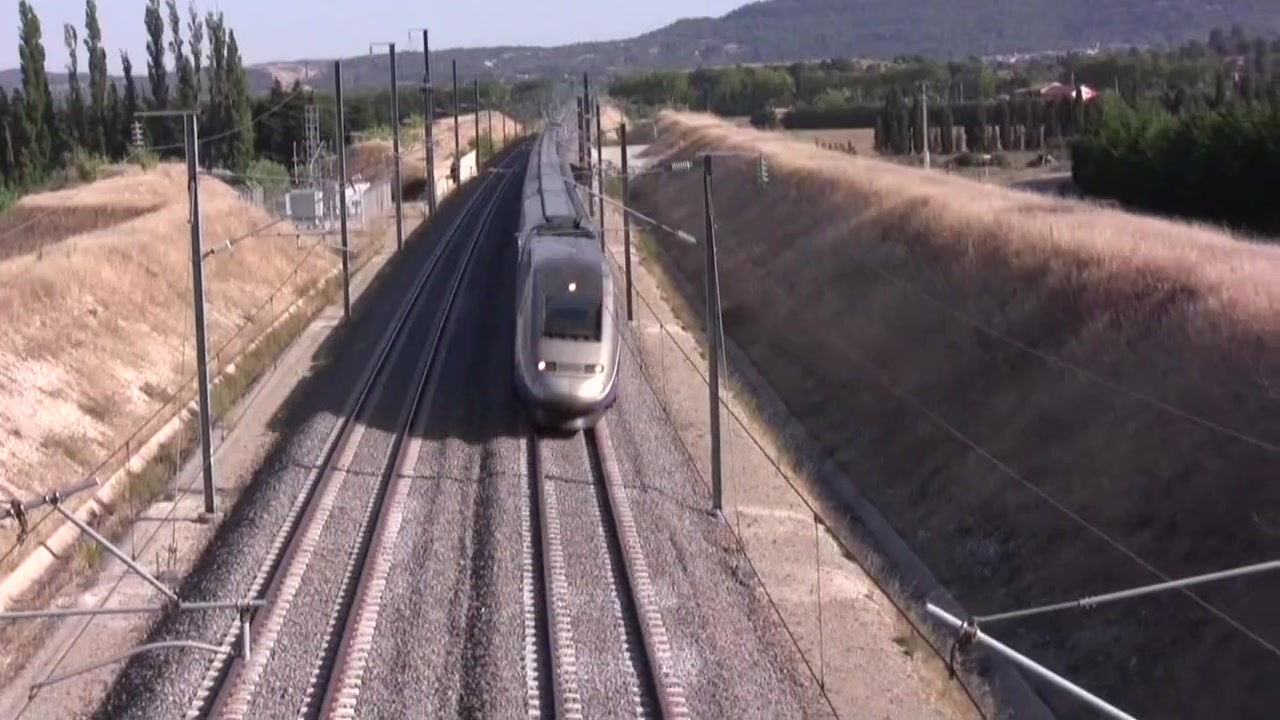train: (515, 110, 622, 439)
